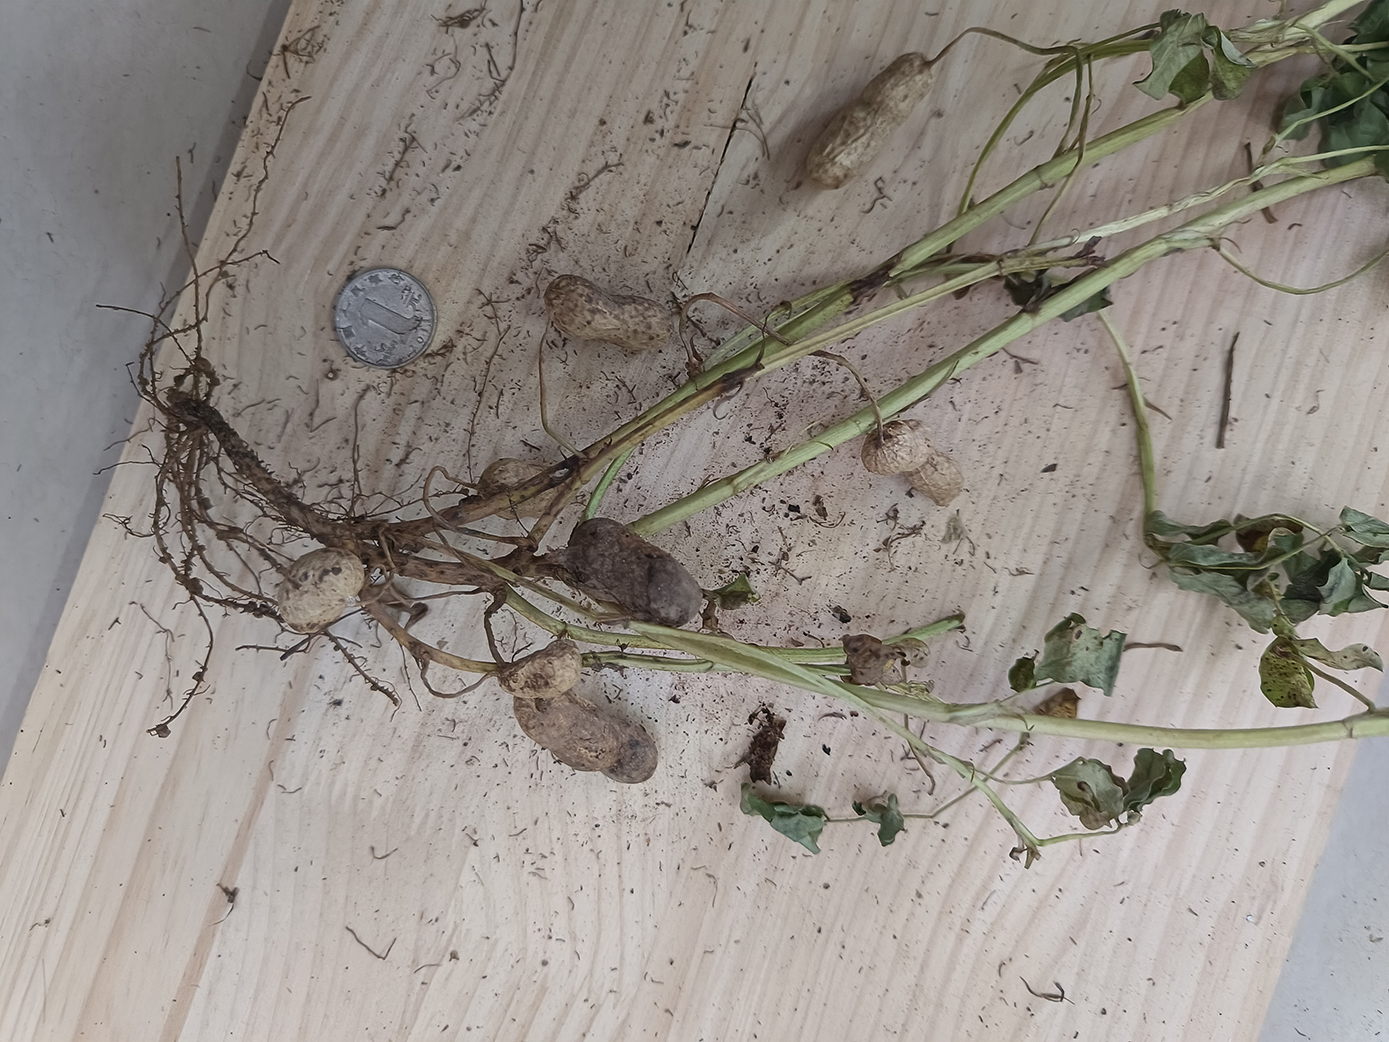h: (807, 51, 931, 186), (546, 274, 675, 352), (863, 420, 963, 506), (277, 549, 364, 634), (479, 462, 576, 519), (503, 637, 582, 698)
l: (568, 518, 705, 624), (513, 692, 659, 787)
